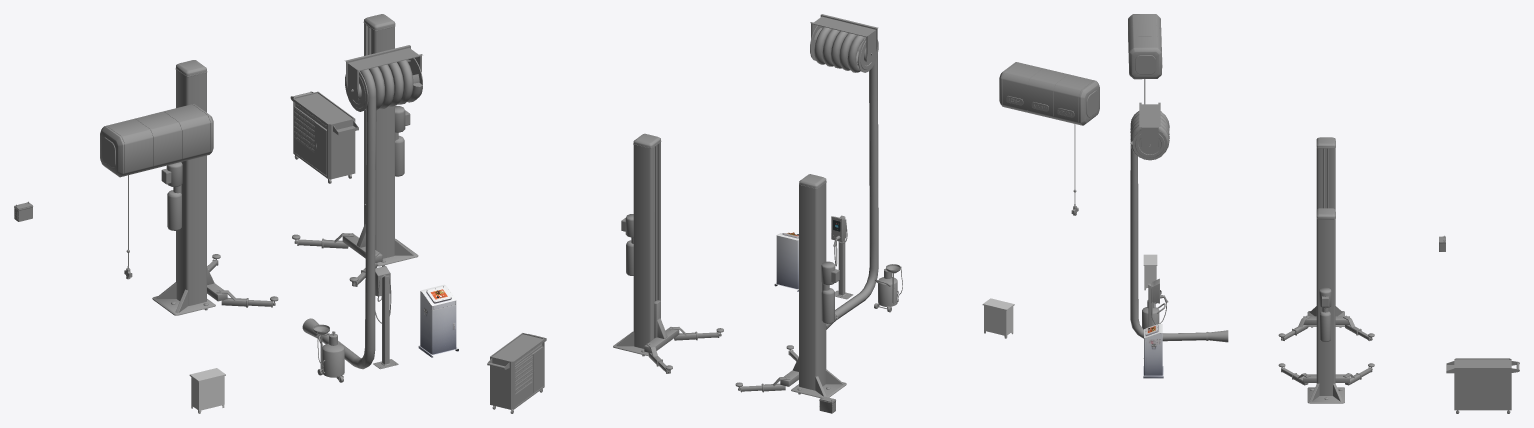
The model's file is DH_CJ_SXS_TSGJ.FBX.
The picture shows the model from 3 angles, left to right: view 1: azimuth 30°, elevation 25°; view 2: azimuth 150°, elevation 25°; view 3: azimuth 270°, elevation 25°; orthographic projection. The views are drawn at different scales.
Parts seen in each view (by area): view 1: JSJ01, CQZZ, GJX008, guizi_003, polySurface479, JSJ02, fire001, Box1578958079, SJQ02; view 2: JSJ01, CQZZ, GJX008, guizi_003, JSJ02, polySurface479, fire001, Box1578958079, SJQ02; view 3: JSJ01, CQZZ, guizi_003, GJX008, JSJ02, polySurface479, fire001, Box1578958079.
Part boxes in pixels (<box>): JSJ01: <box>152,14,418,315</box>; CQZZ: <box>302,45,422,369</box>; GJX008: <box>100,104,213,177</box>; guizi_003: <box>290,91,358,183</box>; polySurface479: <box>418,284,458,357</box>; JSJ02: <box>207,204,382,307</box>; fire001: <box>189,368,225,413</box>; Box1578958079: <box>373,266,398,369</box>; SJQ02: <box>313,324,344,382</box>; JSJ01: <box>613,133,846,397</box>; CQZZ: <box>810,14,878,329</box>; GJX008: <box>999,62,1099,125</box>; guizi_003: <box>487,333,546,413</box>; JSJ02: <box>644,300,798,392</box>; polySurface479: <box>774,232,798,291</box>; fire001: <box>982,298,1014,338</box>; Box1578958079: <box>831,215,853,299</box>; SJQ02: <box>874,264,901,312</box>; JSJ01: <box>1307,137,1344,403</box>; CQZZ: <box>1130,102,1228,342</box>; guizi_003: <box>1446,358,1519,413</box>; GJX008: <box>1128,14,1161,79</box>; JSJ02: <box>1278,315,1374,385</box>; polySurface479: <box>1143,324,1163,378</box>; fire001: <box>1143,254,1157,290</box>; Box1578958079: <box>1148,278,1160,327</box>.
Size of what is drawn, in the model's own units: 711 by 472 by 698.
